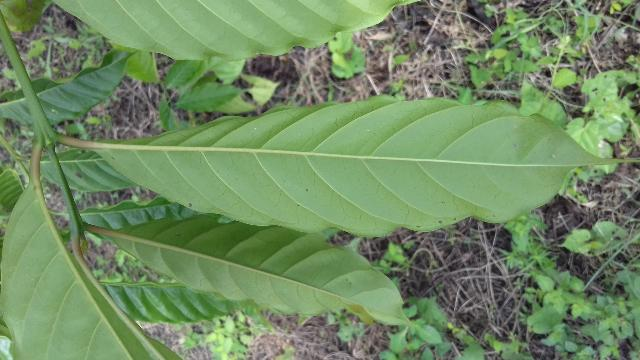healthy: (87, 93, 634, 237)
